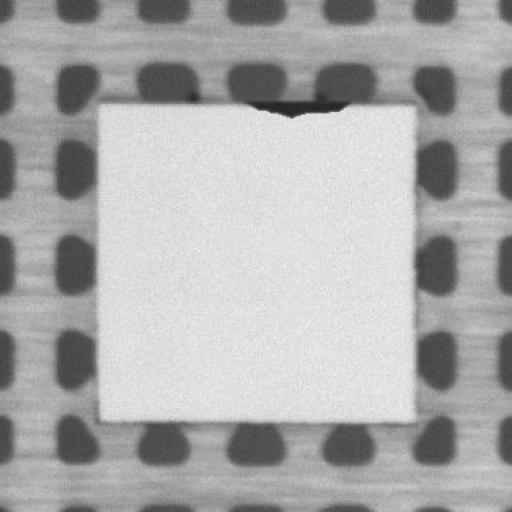DIE_BROKEN: (250, 92, 354, 119)
